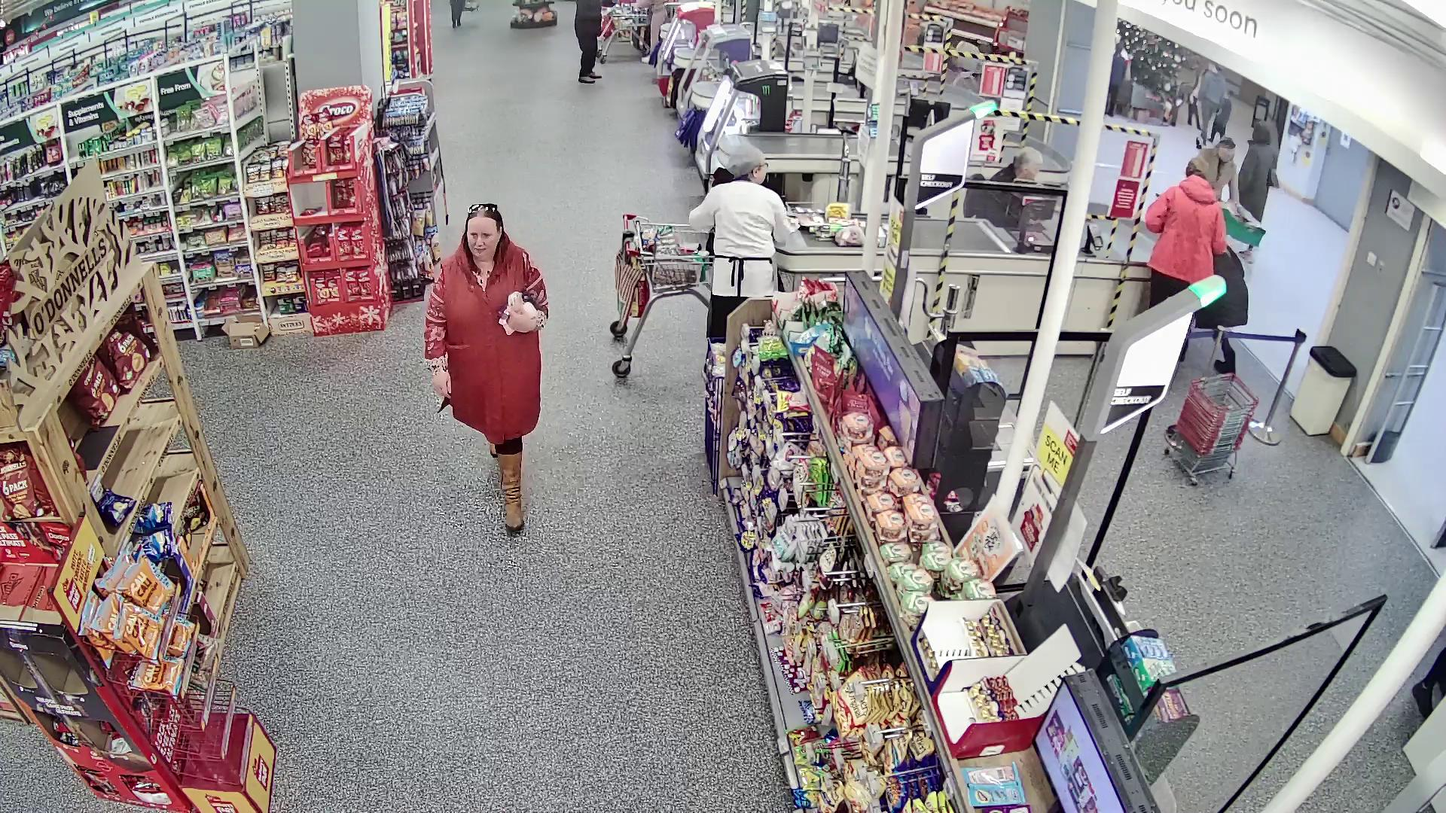carrying-item: (497, 290, 537, 336)
person: (424, 202, 549, 530)
person-with-carrying-item: (423, 202, 550, 530)
